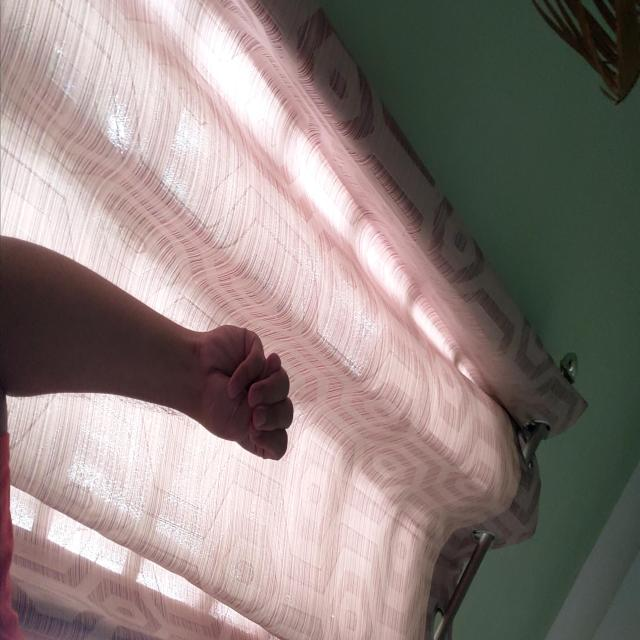M: (324, 345, 463, 451)
